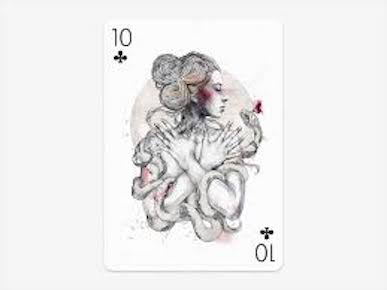TenOfClubs: (103, 19, 288, 276)
